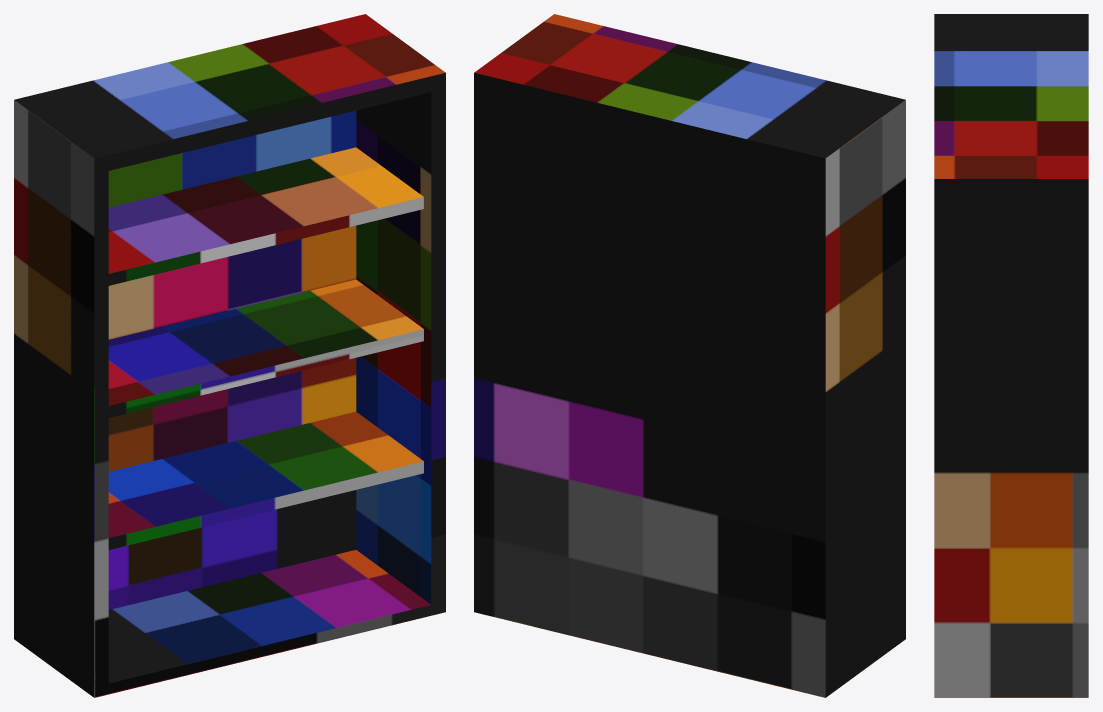
File: Shelf_01.fbx
The picture shows the model from 3 angles, left to right: view 1: azimuth 30°, elevation 25°; view 2: azimuth 150°, elevation 25°; view 3: azimuth 270°, elevation 25°; orthographic projection. The views are drawn at different scales.
Visible parts, largest first — view 1: Shelf_01; view 2: Shelf_01; view 3: Shelf_01.
Part boxes in pixels (box(x1,y1,x2,y2)): Shelf_01: box(14, 14, 445, 697); Shelf_01: box(474, 14, 905, 697); Shelf_01: box(934, 14, 1088, 697).
Bounding box in the file's own units: 114 × 167 × 45.09.
